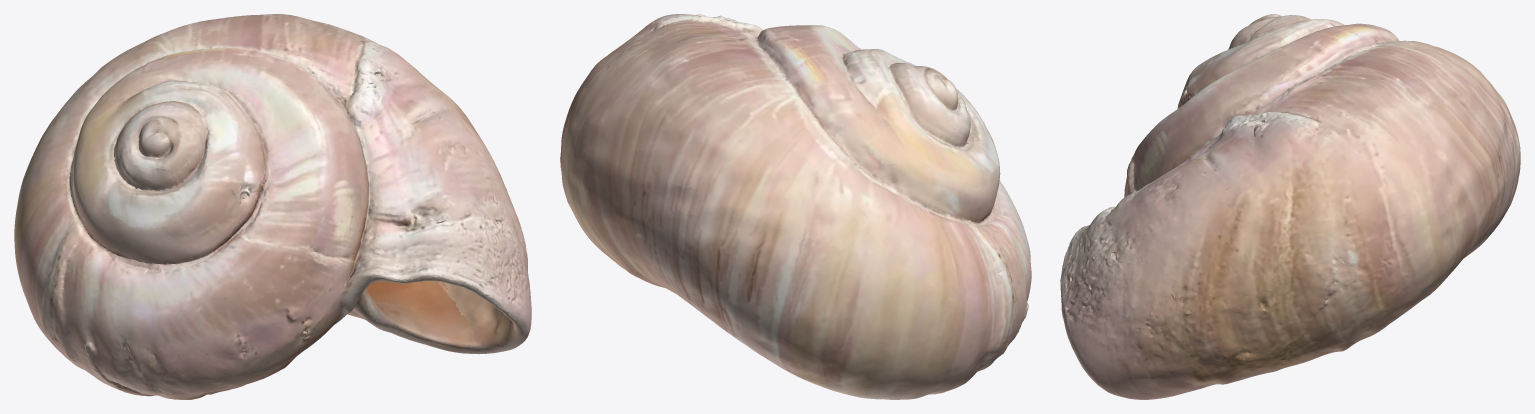
File: shell.glb
The picture shows the model from 3 angles, left to right: view 1: azimuth 30°, elevation 25°; view 2: azimuth 150°, elevation 25°; view 3: azimuth 270°, elevation 25°; orthographic projection. The views are drawn at different scales.
Visible parts, largest first — view 1: geometry_0; view 2: geometry_0; view 3: geometry_0.
Part boxes in pixels (x1=…): geometry_0: x1=14, y1=14, x2=531, y2=399; geometry_0: x1=560, y1=14, x2=1031, y2=399; geometry_0: x1=1060, y1=14, x2=1520, y2=399.
Size of the model in its own units: 0.065 by 0.0445 by 0.0627.
1 material, 1 textured.
